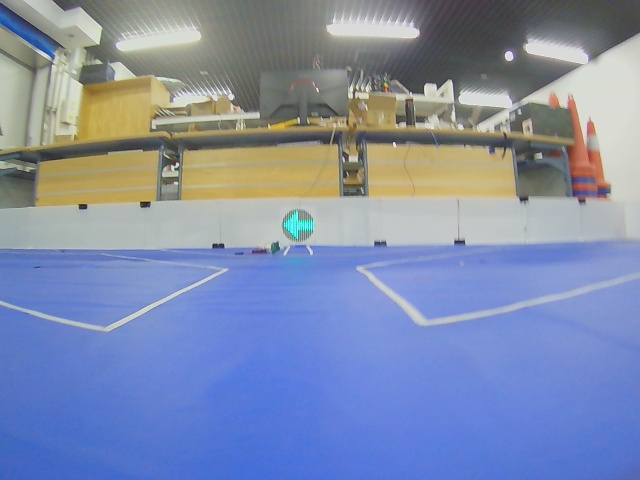left_green: (282, 209, 315, 242)
